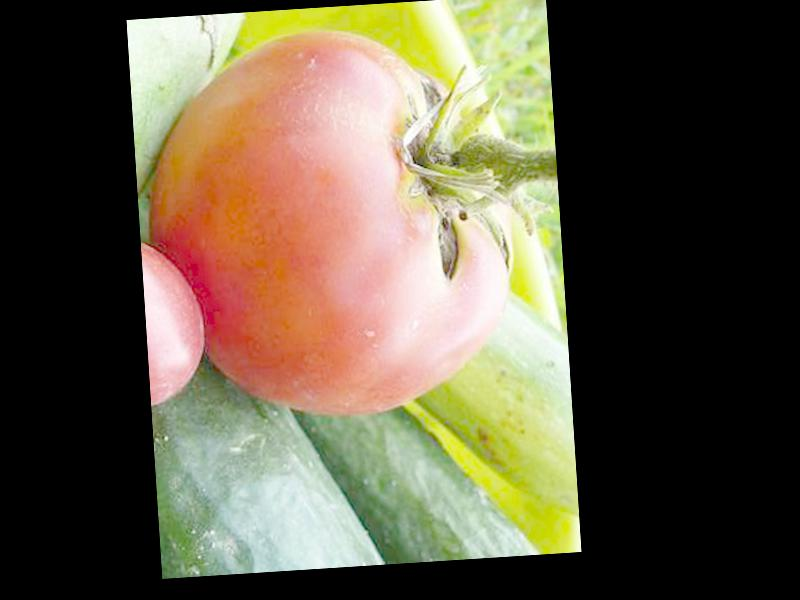Tomato: (136, 18, 517, 424)
